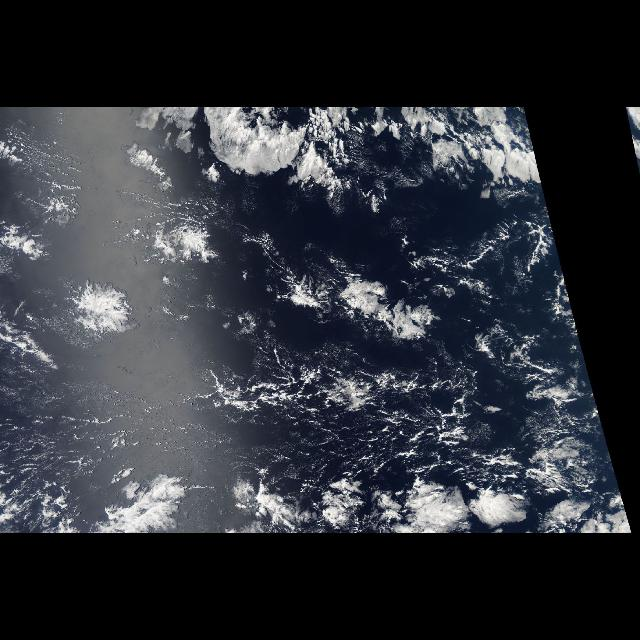Fish: (183, 340, 512, 420)
Flower: (126, 108, 546, 184), (89, 478, 626, 534), (62, 200, 226, 352)
Gravel: (238, 394, 540, 482)
Sugar: (2, 135, 224, 527)
